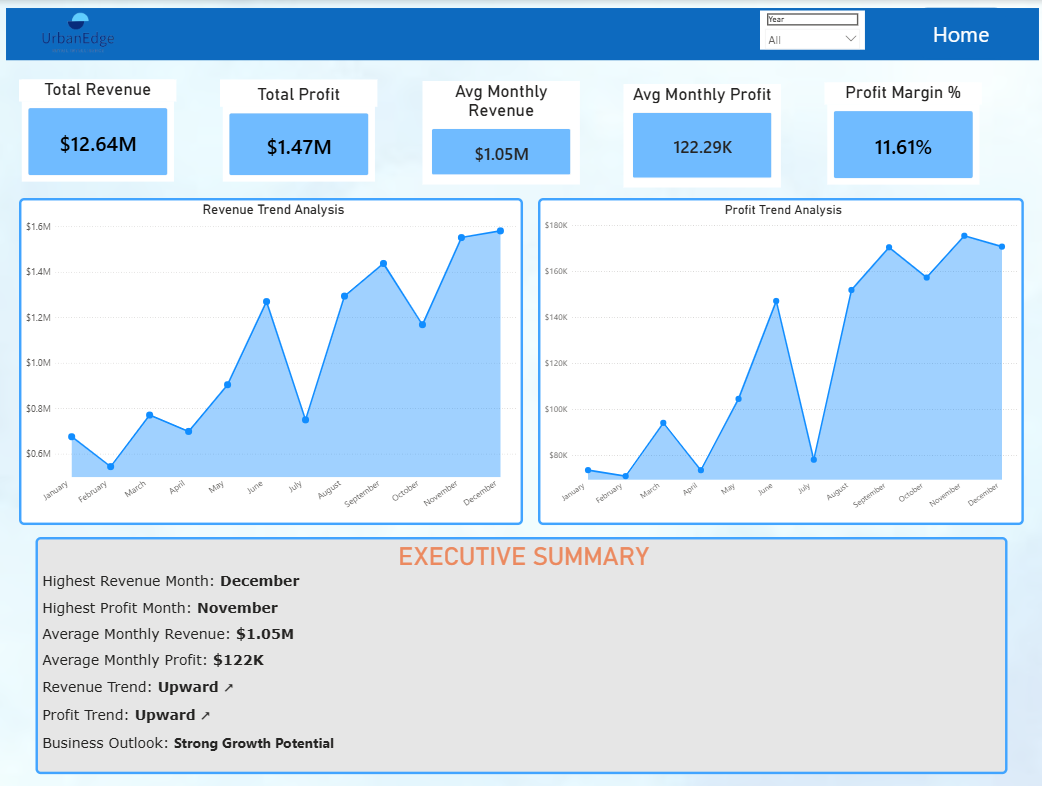

Layout of this report page (visuals, bound fields, positions):
{"tool":"powerbi","page":{"name":"Forecasting","canvas":[2000,1500],"ordinal":5},"visuals":[{"type":"shape","box":[0,0,2001.3,114.4],"z":0},{"type":"image","box":[40,0,225.9,134.4],"z":1000},{"type":"slicer","fields":{"Values":["Global_Superstore2.Year"]},"box":[1452.4,20,200.1,74.3],"z":2000},{"type":"actionButton","box":[1746.9,14.3,177.3,100.1],"z":3000},{"type":"cardVisual","title":"Total Revenue","fields":{"Data":["Global_Superstore2.Total revenue"]},"box":[40,151.5,300.2,200.1],"z":4000},{"type":"cardVisual","title":"Total Profit","fields":{"Data":["Global_Superstore2.Total profit"]},"box":[423.8,151.5,300.2,200.1],"z":5000},{"type":"cardVisual","title":"Avg Monthly Revenue ","fields":{"Data":["Global_Superstore2.Avg Monthly Revenue"]},"box":[807.7,154.4,300.2,197.3],"z":6000},{"type":"cardVisual","title":"Avg Monthly Profit","fields":{"Data":["Global_Superstore2.Avg Monthly Profit"]},"box":[1191.5,160.1,300.2,197.3],"z":7000},{"type":"cardVisual","title":"Profit Margin %","fields":{"Data":["Global_Superstore2.Profit Margin %"]},"box":[1575.3,157.2,300.2,200.1],"z":8000},{"type":"lineChart","title":"Revenue Trend Analysis","fields":{"Y":["Global_Superstore2.Total revenue"],"Category":["Global_Superstore2.Month Name"]},"box":[40,377.4,960.6,623.3],"z":9000},{"type":"lineChart","title":"Profit Trend Analysis","fields":{"Y":["Global_Superstore2.Total profit"],"Category":["Global_Superstore2.Month Name"]},"box":[1029.2,377.4,926.3,623.3],"z":10000},{"type":"textbox","title":"EXECUTIVE SUMMARY","box":[71.5,1023.5,1852.6,451.7],"z":10001}]}

Visuals, with their boxes in screenshot pixels (x1, y1, x2, y2), scaled from the page's 2000x1500 canvas onto the 1042x786 screenshot:
shape: bbox=[0, 0, 1041, 60]
image: bbox=[21, 0, 139, 70]
slicer - Global_Superstore2.Year: bbox=[757, 10, 861, 49]
actionButton: bbox=[910, 7, 1003, 60]
"Total Revenue" cardVisual: bbox=[21, 79, 177, 184]
"Total Profit" cardVisual: bbox=[221, 79, 377, 184]
"Avg Monthly Revenue " cardVisual: bbox=[421, 81, 577, 184]
"Avg Monthly Profit" cardVisual: bbox=[621, 84, 777, 187]
"Profit Margin %" cardVisual: bbox=[821, 82, 977, 187]
"Revenue Trend Analysis" lineChart: bbox=[21, 198, 521, 524]
"Profit Trend Analysis" lineChart: bbox=[536, 198, 1019, 524]
"EXECUTIVE SUMMARY" textbox: bbox=[37, 536, 1002, 773]
